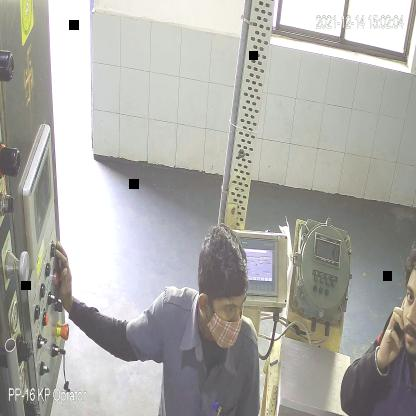no_goggles: (210, 293, 247, 325)
